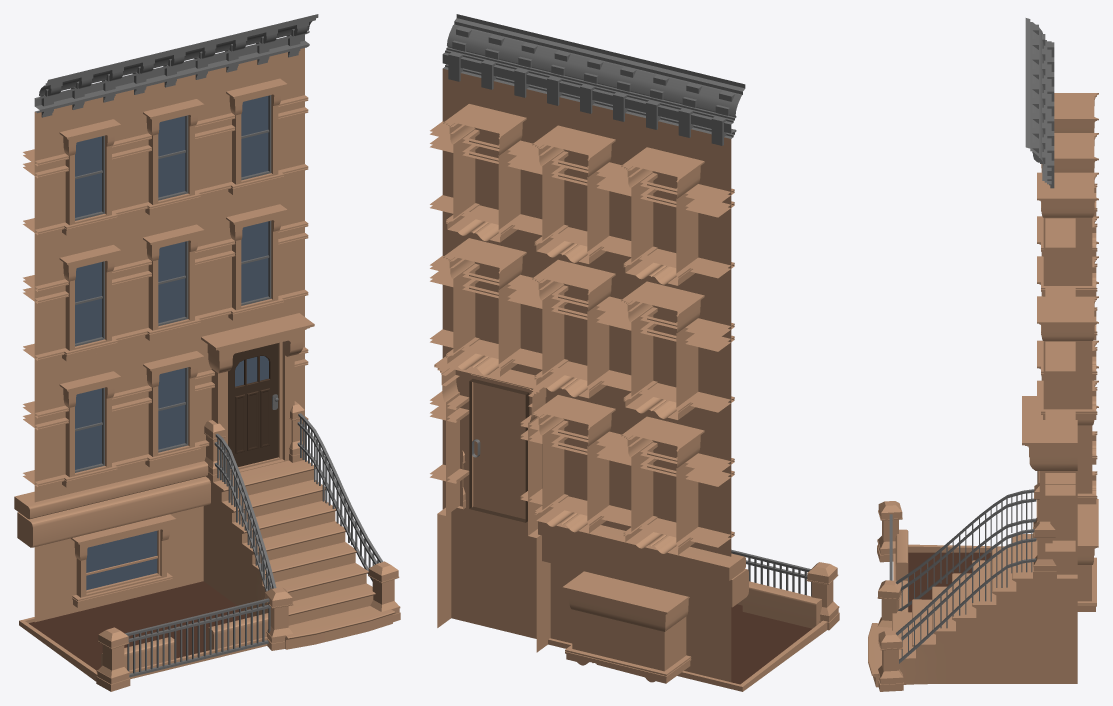
Rendered from Building_1.fbx.
3 renders of one model, left to right at view 1: azimuth 30°, elevation 25°; view 2: azimuth 150°, elevation 25°; view 3: azimuth 270°, elevation 25°, orthographic. The views are drawn at different scales.
Visible parts, largest first — view 1: polySurface43; view 2: polySurface43; view 3: polySurface43.
Part boxes in pixels (x1,y1,x2,y2): polySurface43: [14, 14, 400, 691]; polySurface43: [430, 14, 839, 691]; polySurface43: [868, 18, 1098, 691].
Bounding box in the file's own units: 4.99 × 9 × 3.46.
